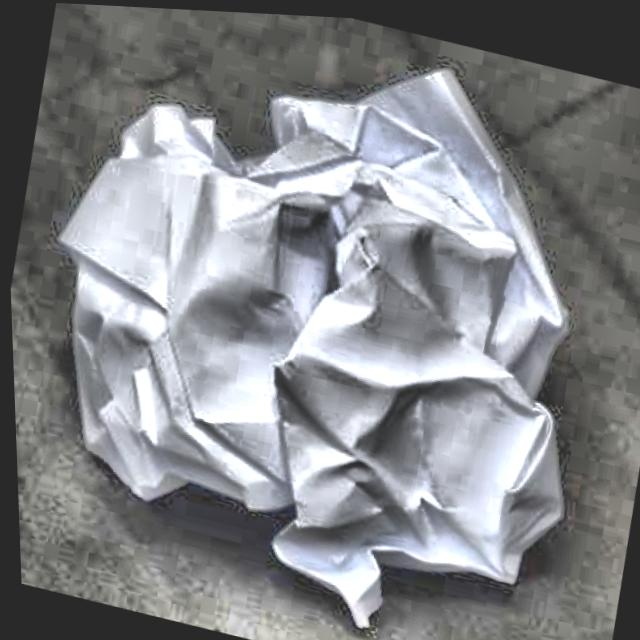Paper: (6, 0, 640, 640)
